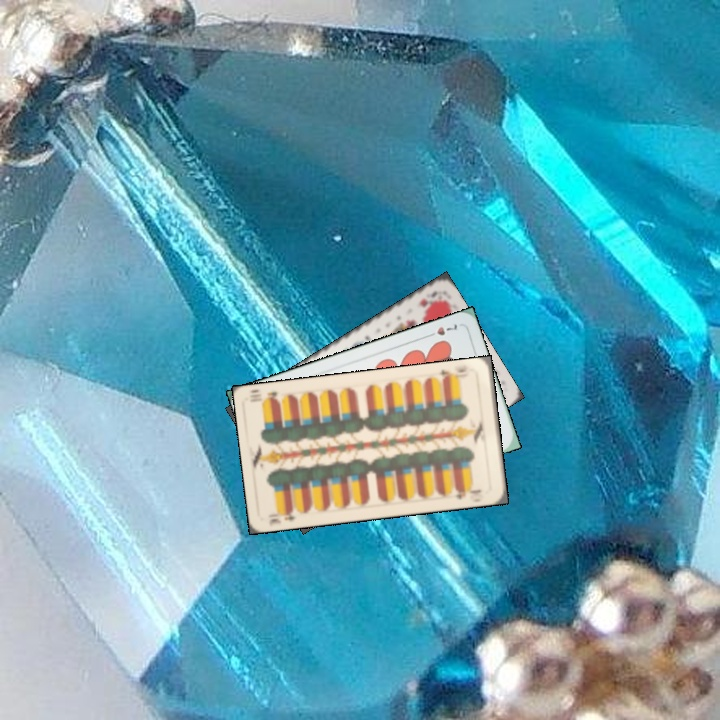E10: (435, 362, 476, 384), (265, 504, 298, 527)
H7: (422, 320, 461, 340)
HK: (415, 287, 442, 310)
